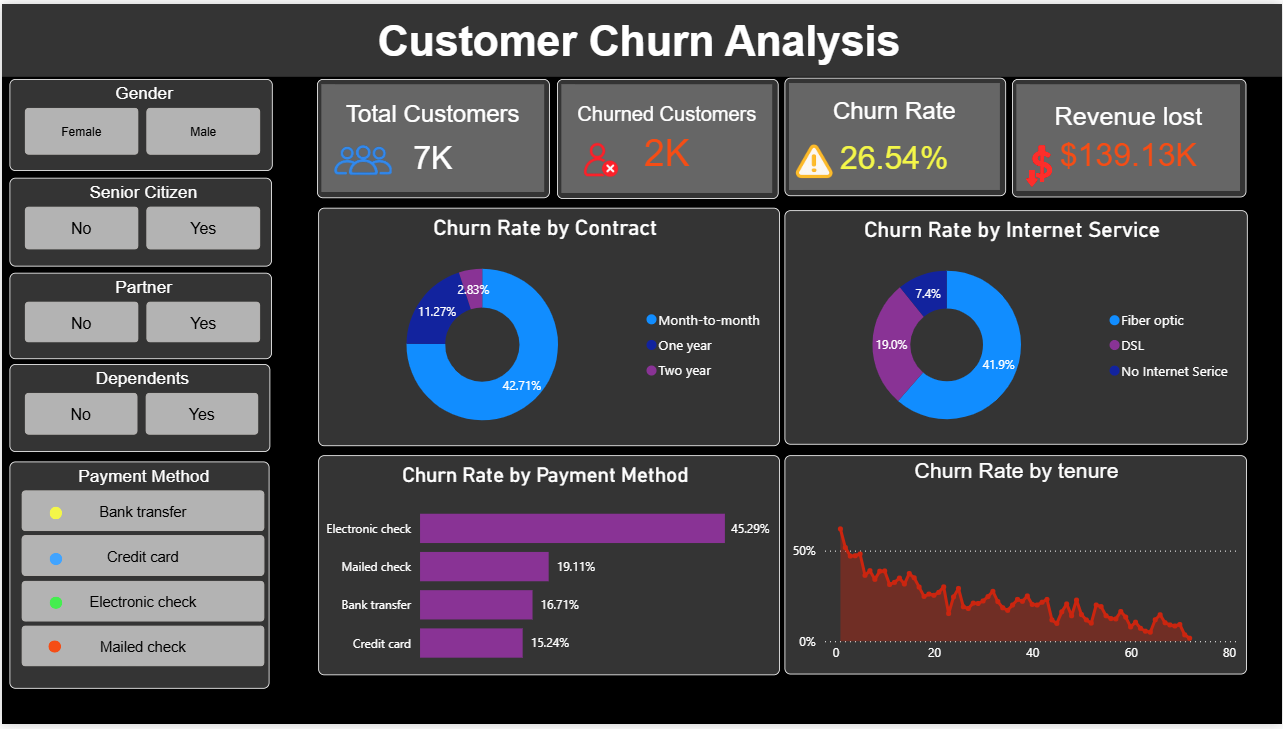

The dashboard page shown, as its layout file describes it:
{"tool":"powerbi","page":{"name":"Page 1","canvas":[1280,720],"ordinal":0},"visuals":[{"type":"textbox","box":[0,0,1280,72.9],"z":0},{"type":"cardVisual","title":"Total Customers","fields":{"Data":["All_measures.Total Customers"]},"box":[315.4,75.4,233.1,119.2],"z":0,"group":"g1"},{"type":"cardVisual","fields":{"Data":["All_measures.ChurnedRevenue"]},"box":[1010.9,74.5,234.5,118.2],"z":1000,"group":"g9"},{"type":"donutChart","title":"Churn Rate by Contract","fields":{"Category":["Customer Churn.Contract"],"Y":["All_measures.Churn Rate"]},"box":[315.7,204.3,461.4,238.6],"z":1000},{"type":"cardVisual","title":"Churned Customers","fields":{"Data":["All_measures.Churned Customers"]},"box":[554.7,74.7,221.3,120],"z":2000,"group":"g2"},{"type":"donutChart","title":"Churn Rate by Internet Service","fields":{"Category":["Customer Churn.InternetService"],"Y":["All_measures.Churn Rate"]},"box":[782.9,205.7,462.9,234.3],"z":2000},{"type":"cardVisual","fields":{"Data":["All_measures.Churn Rate"]},"box":[782.9,74.3,221.4,118.6],"z":3000,"group":"g3"},{"type":"lineChart","fields":{"Y":["All_measures.Churn Rate"],"Category":["Customer Churn.tenure"]},"box":[783,451.5,462.5,219],"z":3000},{"type":"advancedSlicerVisual","title":"Gender","fields":{"Values":["Customer Churn.gender"]},"box":[7.9,75,263.6,92.1],"z":4000},{"type":"advancedSlicerVisual","title":"Senior Citizen","fields":{"Values":["Customer Churn.SeniorCitizen"]},"box":[7.9,173.6,262.1,88.6],"z":5000},{"type":"advancedSlicerVisual","title":"Partner","fields":{"Values":["Customer Churn.Partner"]},"box":[7.2,268.3,262.8,86.1],"z":6000},{"type":"clusteredBarChart","title":"Churn Rate by Payment Method","fields":{"Y":["All_measures.Churn Rate"],"Category":["Customer Churn.PaymentMethod"]},"box":[315.7,451.4,461.4,220],"z":7000},{"type":"advancedSlicerVisual","title":"Dependents","fields":{"Values":["Customer Churn.Dependents"]},"box":[7.4,360,260.5,87.9],"z":8000},{"type":"shape","box":[46.7,636.7,12.7,12.7],"z":9000},{"type":"shape","box":[47.1,549.2,12.9,12.9],"z":10000},{"type":"advancedSlicerVisual","title":"Payment Method","fields":{"Values":["Customer Churn.PaymentMethod"]},"box":[7.5,457.5,260,227.5],"z":11000,"group":"g4"},{"type":"shape","box":[47.1,591.7,12.9,12.5],"z":11000},{"type":"shape","box":[47.1,636.7,12.9,13.8],"z":12000},{"type":"group","id":"g1","title":"Group 1","box":[315.4,75.4,233.1,119.2],"z":13000},{"type":"group","id":"g2","title":"Group 2","box":[554.7,74.7,221.3,120],"z":14000},{"type":"shape","box":[47.5,501.9,12.7,13.1],"z":14000,"group":"g8"},{"type":"shape","box":[47.3,549.1,12.9,12.5],"z":14000,"group":"g5"},{"type":"shape","box":[47.3,592.7,12.9,12.5],"z":14000,"group":"g6"},{"type":"shape","box":[46.8,636.8,12.9,12.5],"z":14000,"group":"g7"},{"type":"group","id":"g3","title":"Group 3","box":[782.9,74.3,221.4,118.6],"z":15000},{"type":"group","id":"g4","title":"Group 4","box":[7.5,457.5,260,227.5],"z":16000},{"type":"group","id":"g5","title":"Group 4","box":[47.3,549.1,13.2,11.8],"z":17000},{"type":"image","box":[792.7,138.7,40,38.7],"z":18000,"group":"g3"},{"type":"group","id":"g6","title":"Group 4","box":[47.3,592.7,13.2,11.8],"z":18000},{"type":"image","box":[568.1,138.6,61,35.2],"z":19000,"group":"g2"},{"type":"group","id":"g7","title":"Group 4","box":[46.8,636.8,13.6,11.8],"z":19000},{"type":"image","box":[331.3,138.8,58.8,35],"z":20000,"group":"g1"},{"type":"group","id":"g8","title":"Group 4","box":[47.5,501.9,13.1,12.2],"z":20000},{"type":"group","id":"g9","title":"Group 5","box":[996.7,74.5,248.8,118.2],"z":21000},{"type":"image","box":[996.7,138.3,82.5,47.5],"z":21001,"group":"g9"}]}

Visuals, with their boxes in screenshot pixels (x1, y1, x2, y2), scaled from the page's 1280x720 canvas onto the 1283x729 screenshot:
textbox: region(0, 0, 1282, 74)
"Total Customers" cardVisual: region(316, 76, 550, 197)
cardVisual - All_measures.ChurnedRevenue: region(1013, 75, 1248, 195)
"Churn Rate by Contract" donutChart: region(316, 207, 779, 448)
"Churned Customers" cardVisual: region(556, 76, 778, 197)
"Churn Rate by Internet Service" donutChart: region(785, 208, 1249, 446)
cardVisual - All_measures.Churn Rate: region(785, 75, 1007, 195)
lineChart - All_measures.Churn Rate x Customer Churn.tenure: region(785, 457, 1248, 679)
"Gender" advancedSlicerVisual: region(8, 76, 272, 169)
"Senior Citizen" advancedSlicerVisual: region(8, 176, 271, 265)
"Partner" advancedSlicerVisual: region(7, 272, 271, 359)
"Churn Rate by Payment Method" clusteredBarChart: region(316, 457, 779, 680)
"Dependents" advancedSlicerVisual: region(7, 364, 269, 453)
shape: region(47, 645, 60, 658)
shape: region(47, 556, 60, 569)
"Payment Method" advancedSlicerVisual: region(8, 463, 268, 694)
shape: region(47, 599, 60, 612)
shape: region(47, 645, 60, 659)
"Group 1" group: region(316, 76, 550, 197)
"Group 2" group: region(556, 76, 778, 197)
shape: region(48, 508, 60, 521)
shape: region(47, 556, 60, 569)
shape: region(47, 600, 60, 613)
shape: region(47, 645, 60, 657)
"Group 3" group: region(785, 75, 1007, 195)
"Group 4" group: region(8, 463, 268, 694)
"Group 4" group: region(47, 556, 61, 568)
image: region(795, 140, 835, 180)
"Group 4" group: region(47, 600, 61, 612)
image: region(569, 140, 631, 176)
"Group 4" group: region(47, 645, 61, 657)
image: region(332, 141, 391, 176)
"Group 4" group: region(48, 508, 61, 521)
"Group 5" group: region(999, 75, 1248, 195)
image: region(999, 140, 1082, 188)
